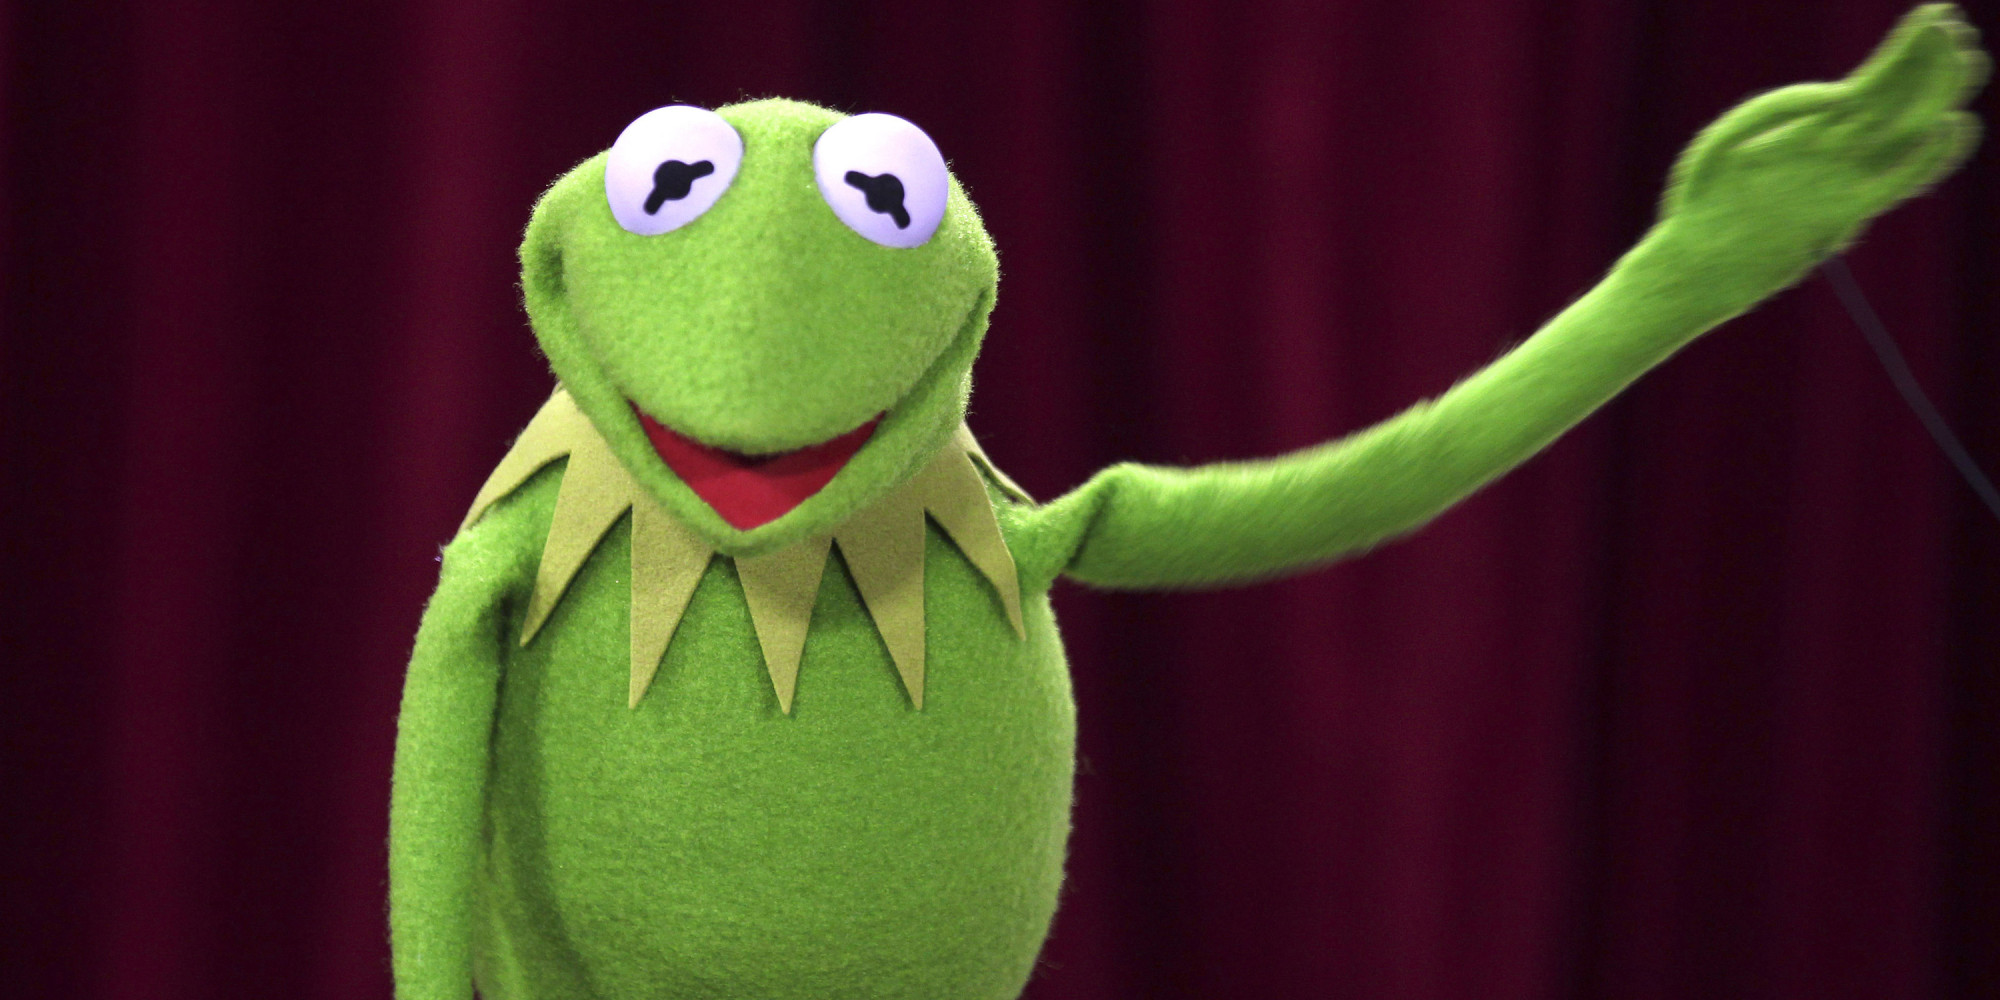kermit: (511, 91, 1026, 571)
